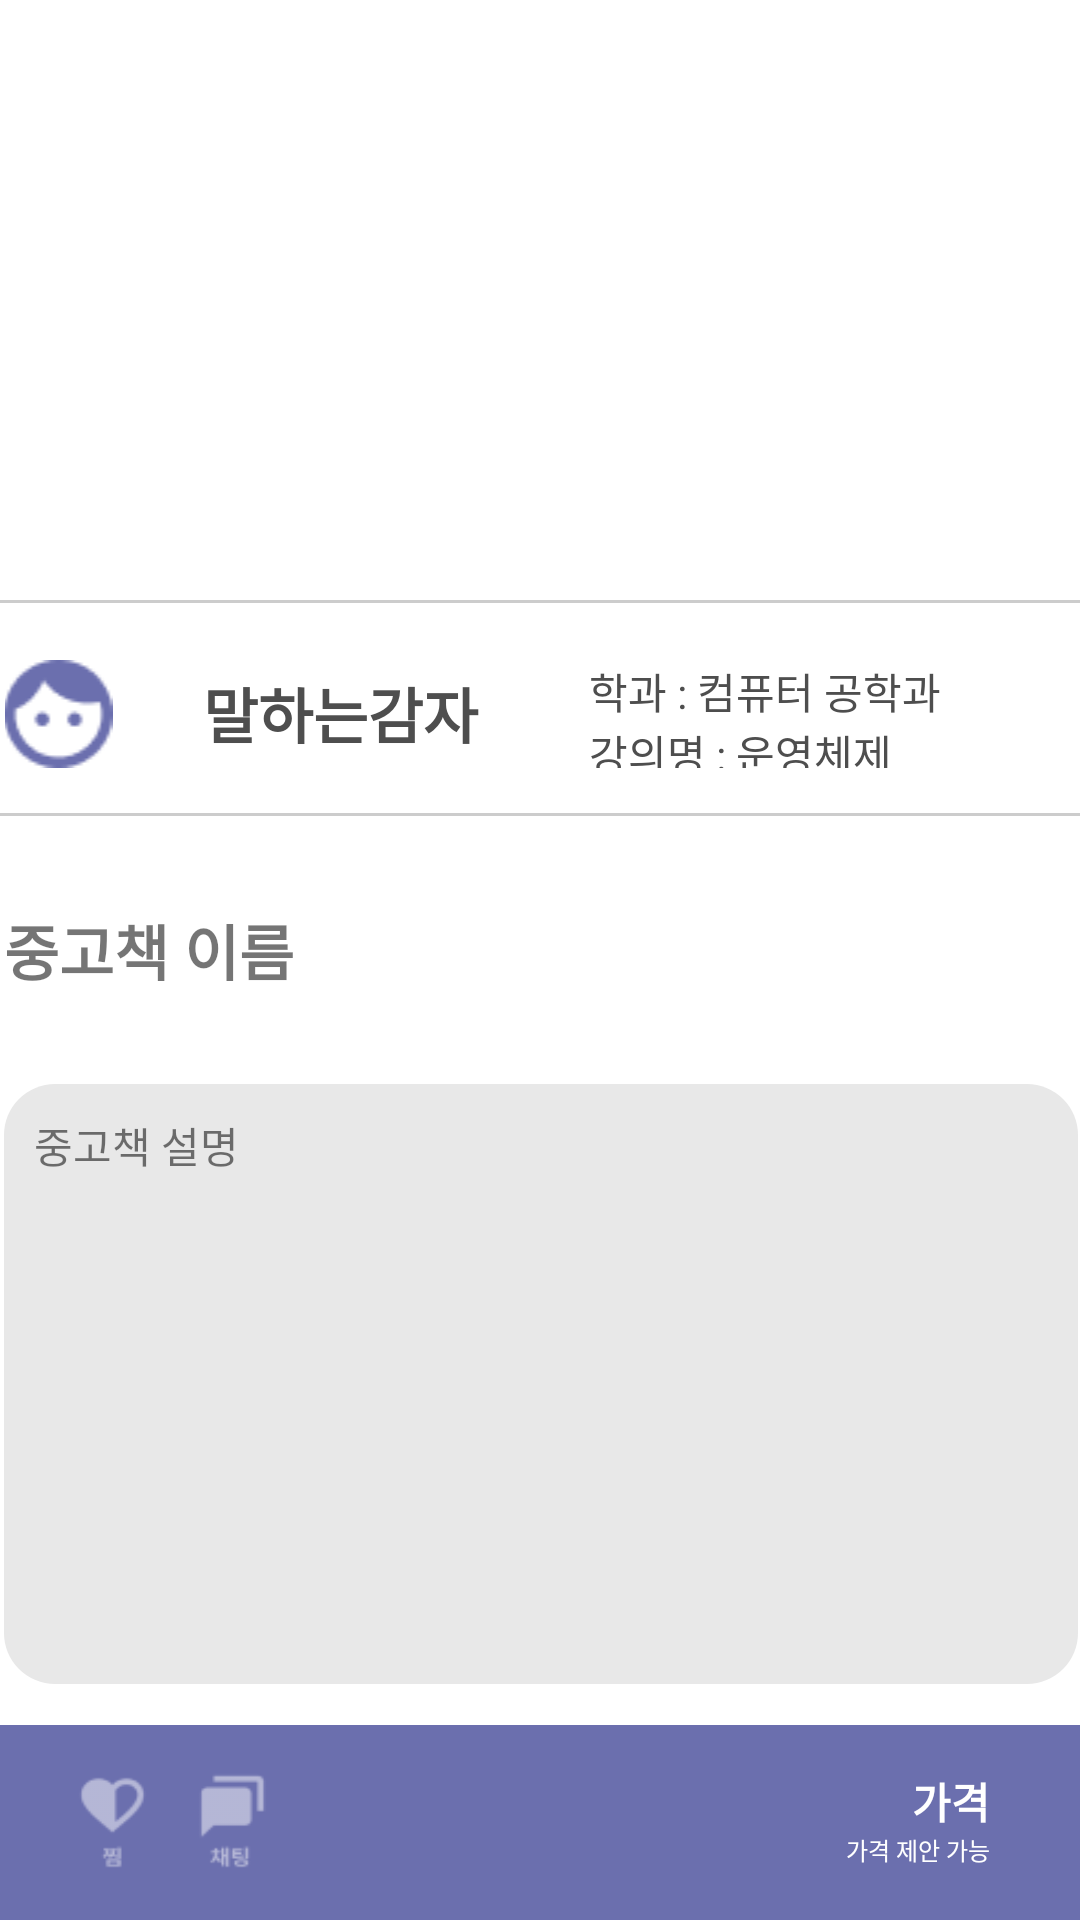

Point at icon controls on the screen. Image size 1080 x 1920, points as [x,y].
usedbookheart: [112,1822]
